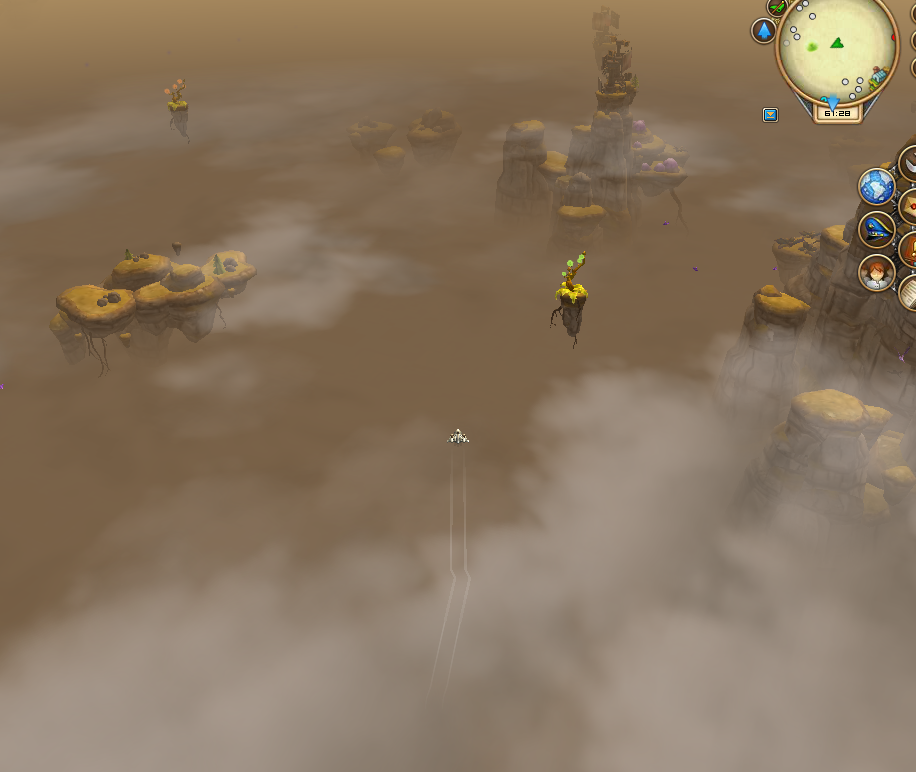dandelion-full: (546, 251, 599, 349), (160, 74, 196, 141)
